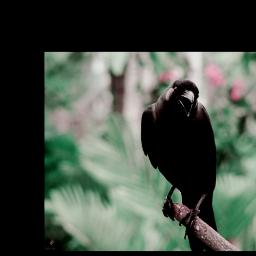Crow: (141, 78, 219, 250)
